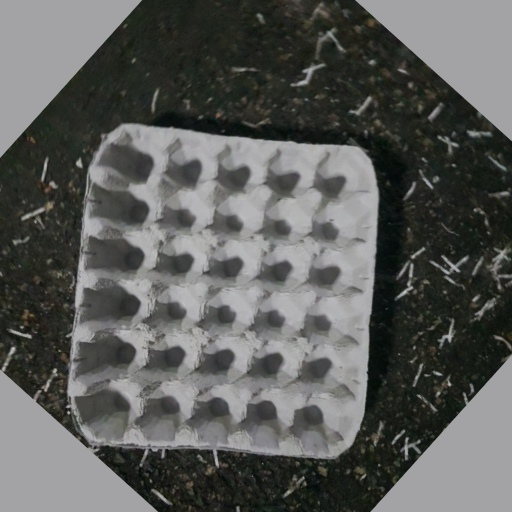Paper_0: (62, 110, 383, 461)
